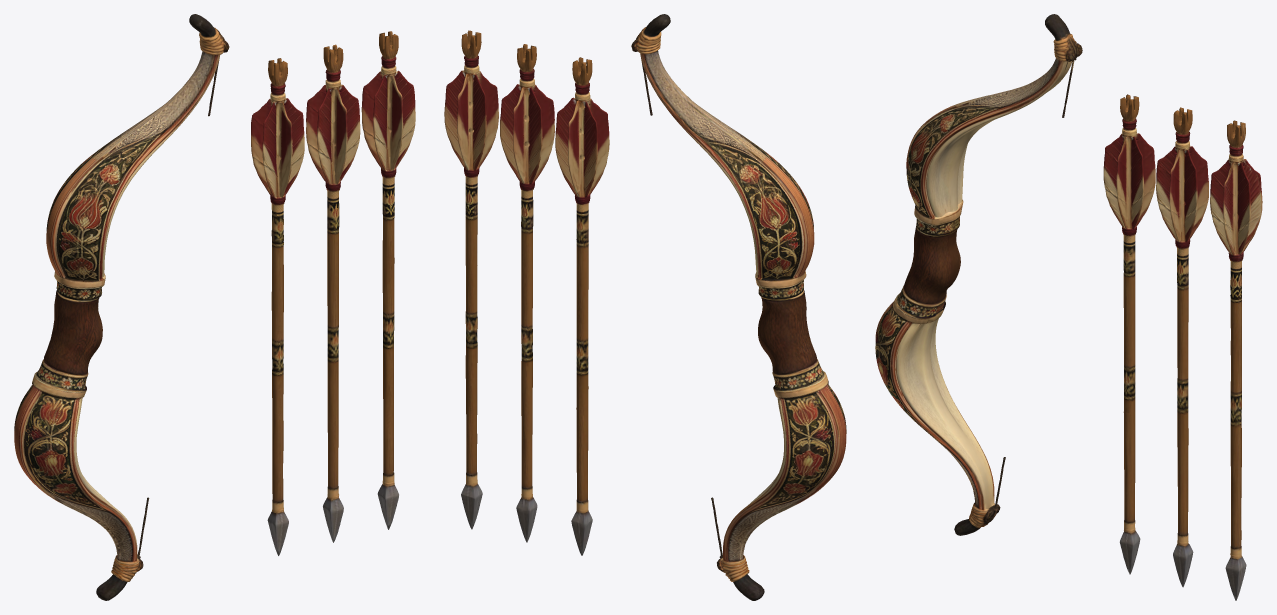
File: Klasik Osmanlı kompozit yayı.glb
3 views of the same model, side by side, from view 1: azimuth 30°, elevation 25°; view 2: azimuth 150°, elevation 25°; view 3: azimuth 330°, elevation 25° (orthographic). The views are drawn at different scales.
Visible parts, largest first — view 1: tripo_node_3316efff-be70-46d3-98ef-2f1c70c7a037; view 2: tripo_node_3316efff-be70-46d3-98ef-2f1c70c7a037; view 3: tripo_node_3316efff-be70-46d3-98ef-2f1c70c7a037.
Boxes of the visible parts, bbox=[...] form: tripo_node_3316efff-be70-46d3-98ef-2f1c70c7a037: bbox=[14, 14, 415, 600]; tripo_node_3316efff-be70-46d3-98ef-2f1c70c7a037: bbox=[444, 14, 846, 600]; tripo_node_3316efff-be70-46d3-98ef-2f1c70c7a037: bbox=[875, 14, 1262, 600].
Bounding box in the file's own units: 0.7183 × 0.9796 × 0.1325.
1 material, 1 textured.
